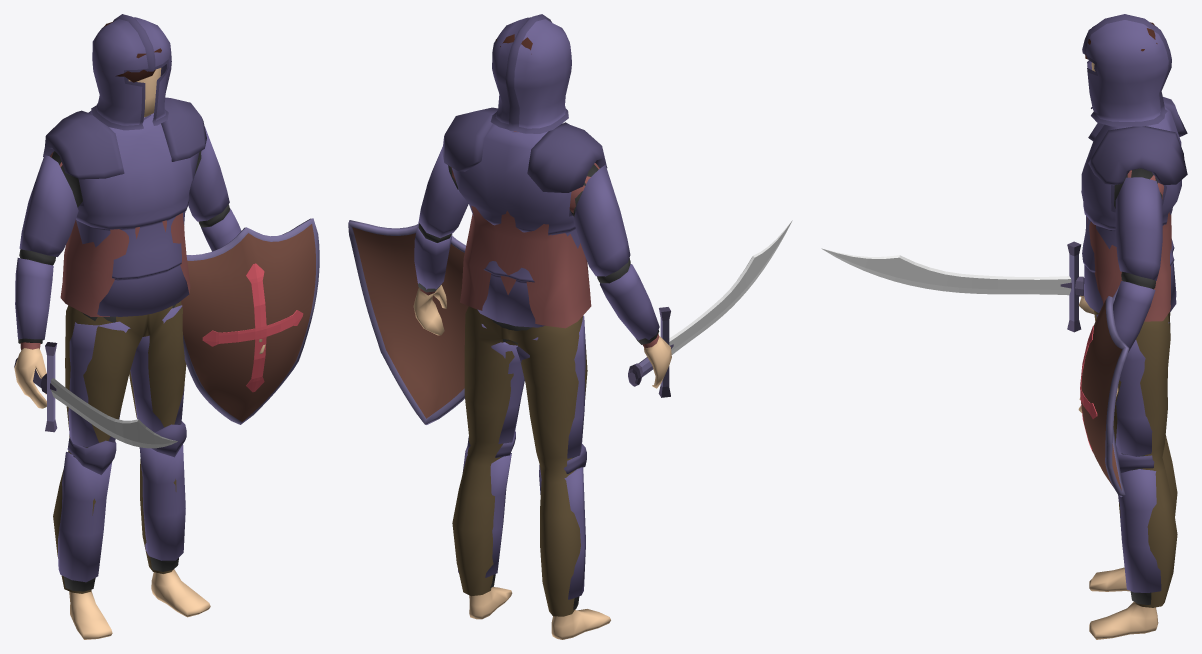
Rendered from Player1.fbx.
The picture shows the model from 3 angles, left to right: view 1: azimuth 30°, elevation 25°; view 2: azimuth 150°, elevation 25°; view 3: azimuth 270°, elevation 25°; orthographic projection.
Visible parts, largest first — view 1: Platebody, Shield, Platelegs, Pants, Helmet, Body, Shirt, Sword; view 2: Platebody, Pants, Shield, Shirt, Helmet, Platelegs, Body, Sword; view 3: Platebody, Helmet, Platelegs, Pants, Sword, Shield, Shirt, Body.
Part boxes in pixels (left/top/right/bottom): Platebody: left=15, top=97, right=241, bottom=343; Shield: left=181, top=218, right=319, bottom=424; Platelegs: left=58, top=304, right=186, bottom=591; Pants: left=53, top=301, right=186, bottom=593; Helmet: left=91, top=14, right=171, bottom=130; Body: left=14, top=68, right=265, bottom=639; Shirt: left=20, top=152, right=190, bottom=350; Sword: left=14, top=342, right=177, bottom=448; Platebody: left=414, top=107, right=659, bottom=344; Pants: left=452, top=306, right=587, bottom=616; Shield: left=348, top=220, right=468, bottom=424; Shirt: left=420, top=131, right=659, bottom=348; Helmet: left=490, top=14, right=571, bottom=133; Platelegs: left=458, top=315, right=586, bottom=609; Body: left=413, top=285, right=671, bottom=639; Sword: left=628, top=220, right=792, bottom=397; Platebody: left=1081, top=97, right=1187, bottom=353; Helmet: left=1082, top=14, right=1171, bottom=126; Platelegs: left=1096, top=314, right=1169, bottom=604; Pants: left=1094, top=310, right=1177, bottom=607; Sword: left=821, top=241, right=1084, bottom=332; Shield: left=1080, top=286, right=1129, bottom=496; Shirt: left=1087, top=170, right=1171, bottom=321; Body: left=1078, top=62, right=1158, bottom=639.
Bounding box in the file's own units: 97.36 × 181 × 101.
